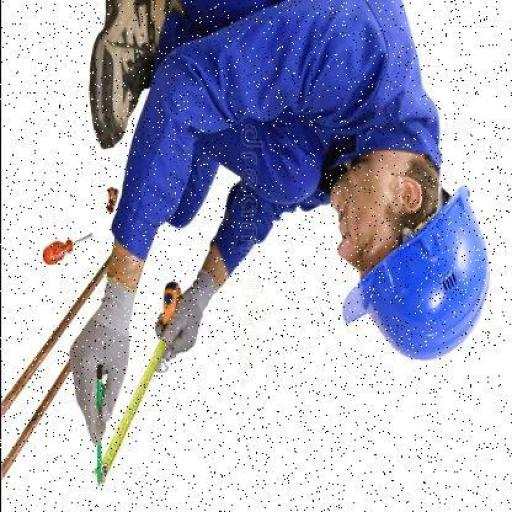safety_shoe: (84, 0, 174, 142)
